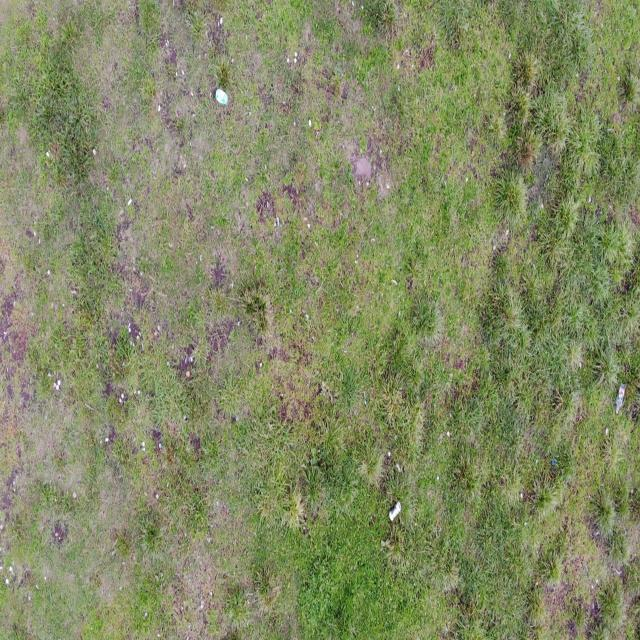rubbish: (616, 379, 627, 416), (388, 497, 402, 523), (216, 87, 231, 107)
